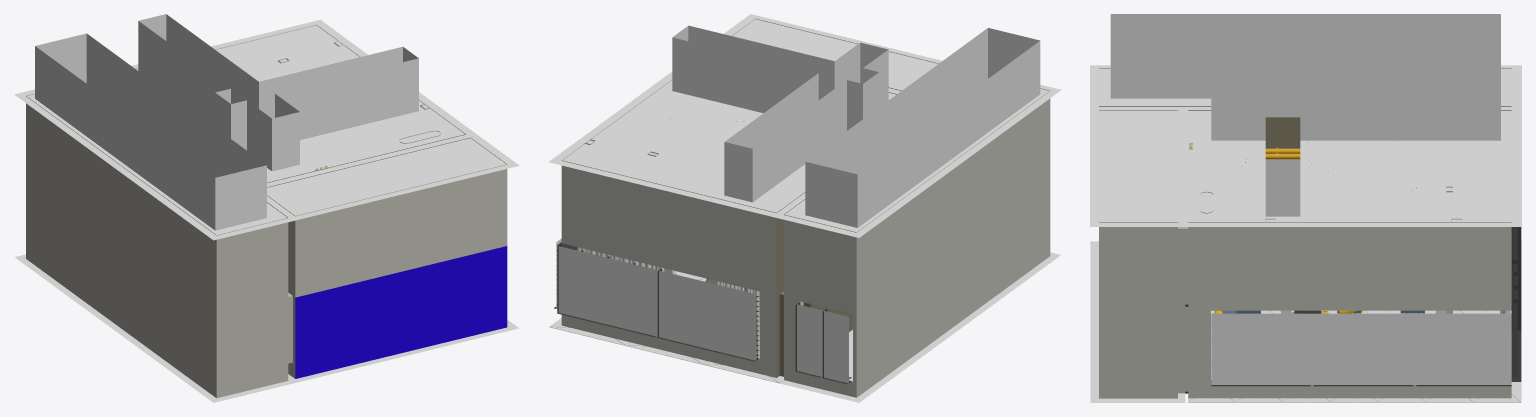
3 views of the same model, side by side, from view 1: azimuth 30°, elevation 25°; view 2: azimuth 150°, elevation 25°; view 3: azimuth 270°, elevation 25° (orthographic). The views are drawn at different scales.
Parts seen in each view (by area): view 1: Cube.007, Cube.016, Cube.015; view 2: Cube.007, Plane.006, Plane.020, Cube.015, Cube.000; view 3: Cube.007, Plane.005, Cube.000, Cube.015, BezierCurve.
Boxes of the visible parts, left/top/right/bottom form: Cube.007: left=14, top=14, right=519, bottom=398; Cube.016: left=295, top=246, right=507, bottom=378; Cube.015: left=14, top=254, right=518, bottom=402; Cube.007: left=548, top=14, right=1061, bottom=397; Plane.006: left=558, top=246, right=756, bottom=360; Plane.020: left=797, top=304, right=848, bottom=383; Cube.015: left=549, top=252, right=1060, bottom=402; Cube.000: left=549, top=270, right=783, bottom=383; Cube.007: left=1090, top=14, right=1521, bottom=398; Plane.005: left=1211, top=313, right=1511, bottom=384; Cube.000: left=1188, top=310, right=1521, bottom=402; Cube.015: left=1090, top=241, right=1521, bottom=402; BezierCurve: left=1189, top=143, right=1300, bottom=213.
Size of the model in its own units: 3294 by 2312 by 3715.
